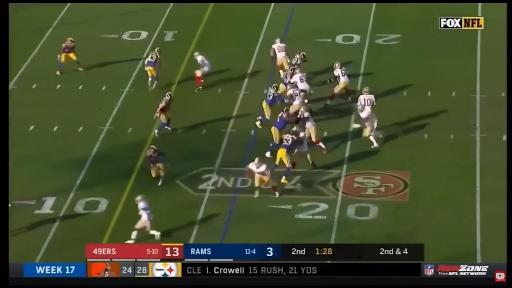Helmet: (299, 105, 308, 115), (164, 92, 172, 100), (288, 66, 295, 75), (362, 87, 370, 94), (333, 61, 340, 69), (271, 84, 279, 91), (135, 195, 143, 202), (291, 125, 299, 132), (282, 108, 289, 115), (154, 47, 160, 54), (194, 51, 200, 58), (67, 37, 74, 42), (254, 157, 260, 162), (150, 145, 157, 149), (275, 38, 280, 43)
Jersey: (358, 95, 375, 118), (291, 73, 309, 90), (281, 134, 297, 153), (138, 200, 152, 221), (248, 162, 269, 175), (147, 149, 164, 165), (274, 112, 289, 130), (265, 92, 283, 106), (287, 89, 303, 104), (301, 112, 315, 128), (297, 131, 307, 153), (272, 43, 286, 58), (334, 68, 349, 82), (145, 53, 159, 67), (196, 55, 210, 68), (158, 98, 171, 112), (292, 54, 303, 67), (62, 42, 74, 53), (282, 73, 291, 86)
Player: (126, 195, 160, 243), (266, 108, 294, 157), (246, 158, 279, 197), (271, 134, 297, 183), (299, 106, 326, 153), (358, 87, 378, 147), (256, 84, 283, 127), (324, 62, 350, 106), (291, 126, 316, 169), (57, 38, 83, 75), (154, 92, 172, 136), (146, 146, 165, 185), (271, 38, 289, 77), (145, 47, 160, 90), (194, 52, 210, 90), (291, 68, 310, 97), (287, 88, 307, 114), (279, 67, 294, 94), (292, 52, 306, 67)
